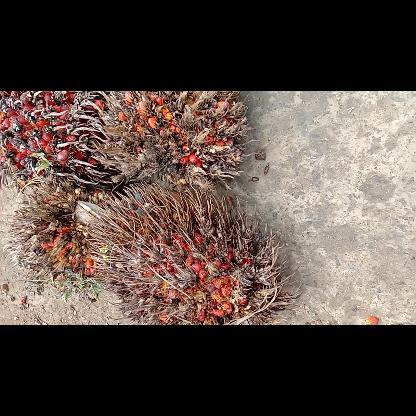Terlalu masak: (70, 178, 304, 324), (88, 91, 256, 189), (6, 171, 116, 293), (0, 90, 117, 194)
